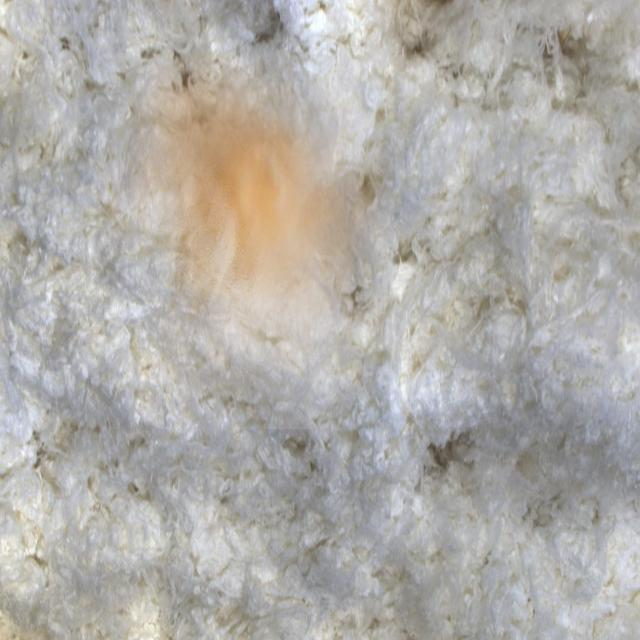dust: (97, 52, 390, 429)
